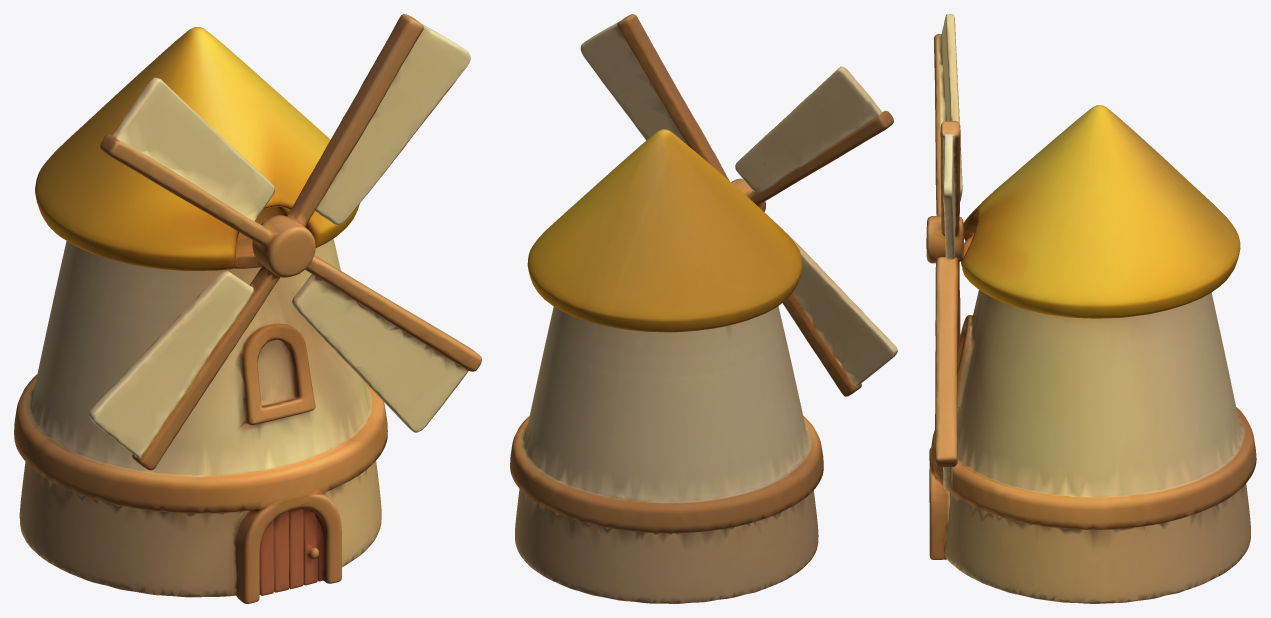
File: windmill.glb
3 views of the same model, side by side, from view 1: azimuth 30°, elevation 25°; view 2: azimuth 150°, elevation 25°; view 3: azimuth 270°, elevation 25° (orthographic). The views are drawn at different scales.
Parts seen in each view (by area): view 1: tripo_node_3f7644f7-46e7-4ec5-9572-60cc6b0266c7; view 2: tripo_node_3f7644f7-46e7-4ec5-9572-60cc6b0266c7; view 3: tripo_node_3f7644f7-46e7-4ec5-9572-60cc6b0266c7.
Boxes of the visible parts, bbox=[...] form: tripo_node_3f7644f7-46e7-4ec5-9572-60cc6b0266c7: bbox=[14, 14, 481, 603]; tripo_node_3f7644f7-46e7-4ec5-9572-60cc6b0266c7: bbox=[510, 14, 897, 603]; tripo_node_3f7644f7-46e7-4ec5-9572-60cc6b0266c7: bbox=[926, 14, 1256, 603].
Size of the model in its own units: 0.7475 by 1 by 0.6339.
1 material, 1 textured.
